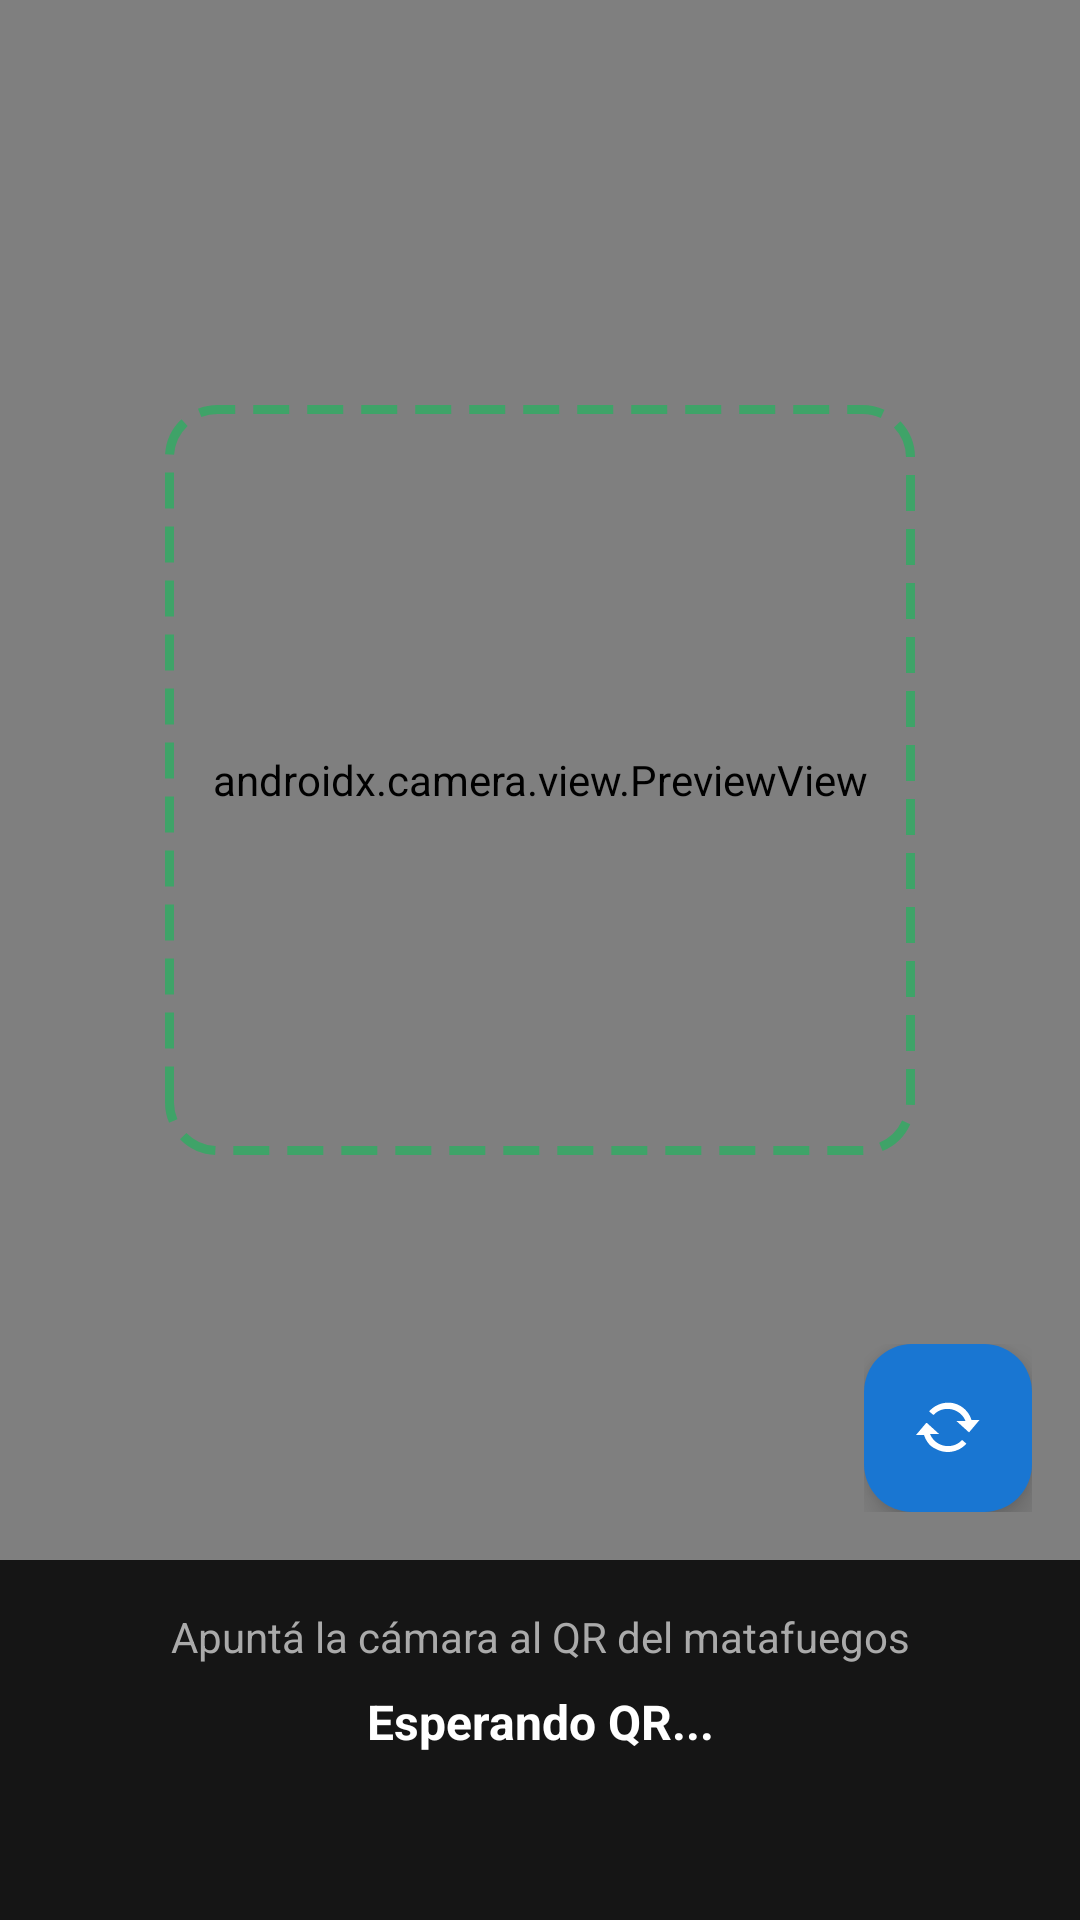

Named icons in this screenshot (1080*1920) and their bounding boxes, (x1, y1, x2, y2):
Sincronizar pendientes: (864, 1344, 1032, 1512)
